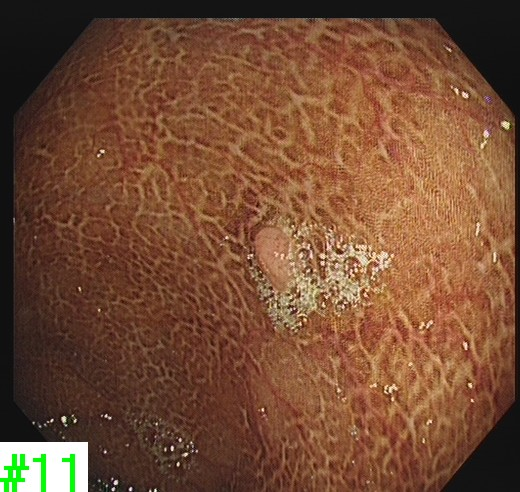adenoma: (250, 223, 300, 296)
